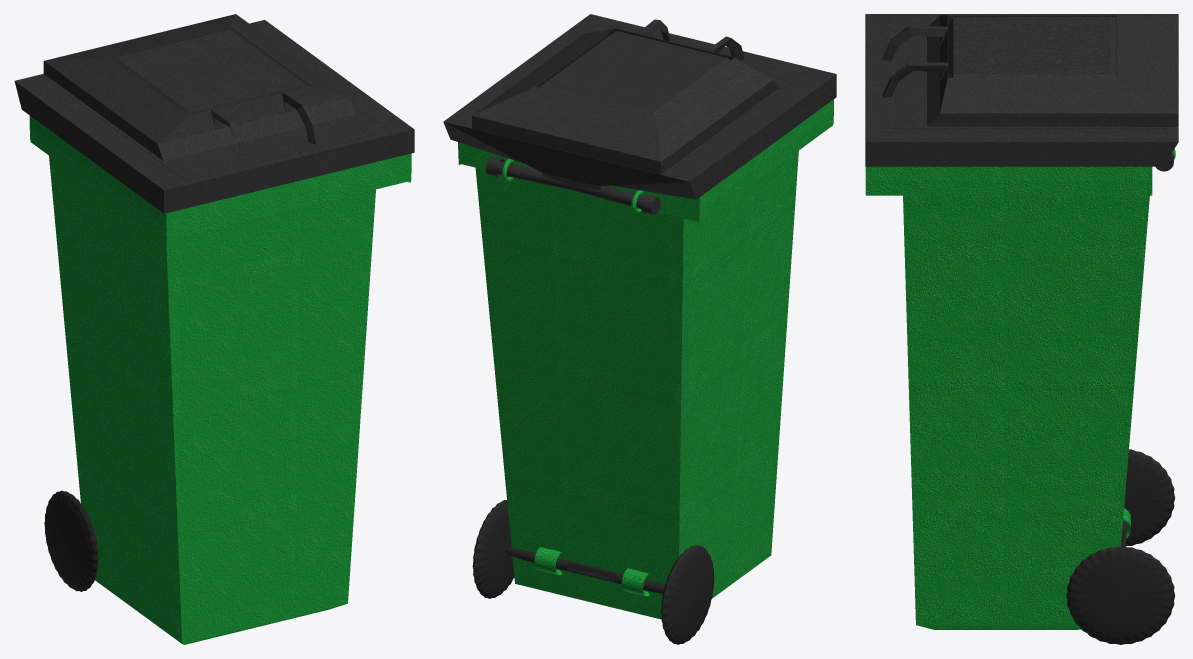
Rendered from green garbage bin.fbx.
3 renders of one model, left to right at view 1: azimuth 30°, elevation 25°; view 2: azimuth 150°, elevation 25°; view 3: azimuth 270°, elevation 25°, orthographic. The views are drawn at different scales.
Visible parts, largest first — view 1: Torus.001, Plane.002, Cylinder.003; view 2: Torus.001, Plane.002, Cylinder.003; view 3: Torus.001, Plane.002, Cylinder.003.
Part boxes in pixels (box(x1,y1,x2,y2)): Torus.001: box(29, 116, 411, 644); Plane.002: box(14, 14, 414, 213); Cylinder.003: box(44, 490, 98, 591); Torus.001: box(458, 99, 833, 619); Plane.002: box(443, 14, 836, 214); Cylinder.003: box(472, 500, 714, 644); Torus.001: box(865, 149, 1175, 629); Plane.002: box(865, 14, 1178, 171); Cylinder.003: box(1066, 449, 1175, 644).
Size of the model in its own units: 460 by 923 by 477.
